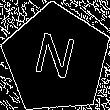N_S: (31, 30, 81, 89)
